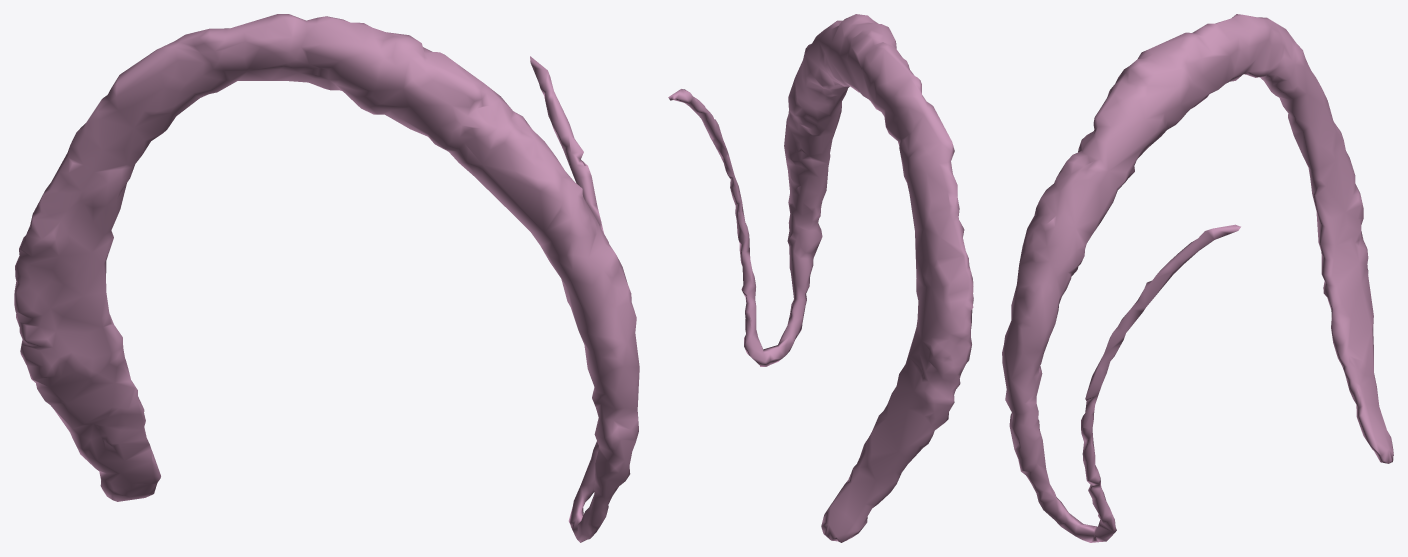
The picture shows the model from 3 angles, left to right: view 1: azimuth 30°, elevation 25°; view 2: azimuth 150°, elevation 25°; view 3: azimuth 270°, elevation 25°; orthographic projection. The views are drawn at different scales.
Parts seen in each view (by area): view 1: 右侧脉络丛; view 2: 右侧脉络丛; view 3: 右侧脉络丛.
Boxes of the visible parts, box(x1,y1,x2,y2) form: 右侧脉络丛: box(14, 14, 639, 542); 右侧脉络丛: box(668, 14, 973, 542); 右侧脉络丛: box(1002, 14, 1393, 542).
Size of the model in its own units: 0.0535 by 0.062 by 0.0484.
